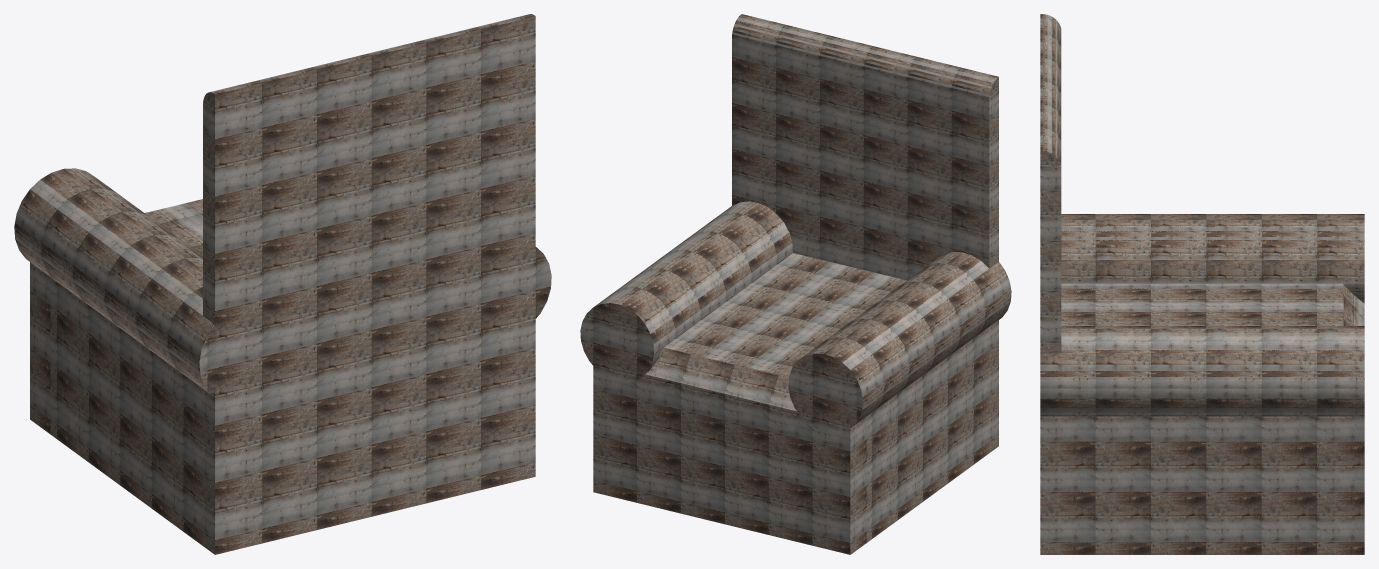
3 renders of one model, left to right at view 1: azimuth 30°, elevation 25°; view 2: azimuth 150°, elevation 25°; view 3: azimuth 270°, elevation 25°, orthographic. The views are drawn at different scales.
Parts seen in each view (by area): view 1: mesh1_mesh1-geometry; view 2: mesh1_mesh1-geometry; view 3: mesh1_mesh1-geometry.
Part boxes in pixels (<box>): mesh1_mesh1-geometry: <box>14,14,551,554</box>; mesh1_mesh1-geometry: <box>580,14,1011,554</box>; mesh1_mesh1-geometry: <box>1040,14,1364,554</box>.
Bounding box in the file's own units: 0.5432 × 0.6786 × 0.4944.
